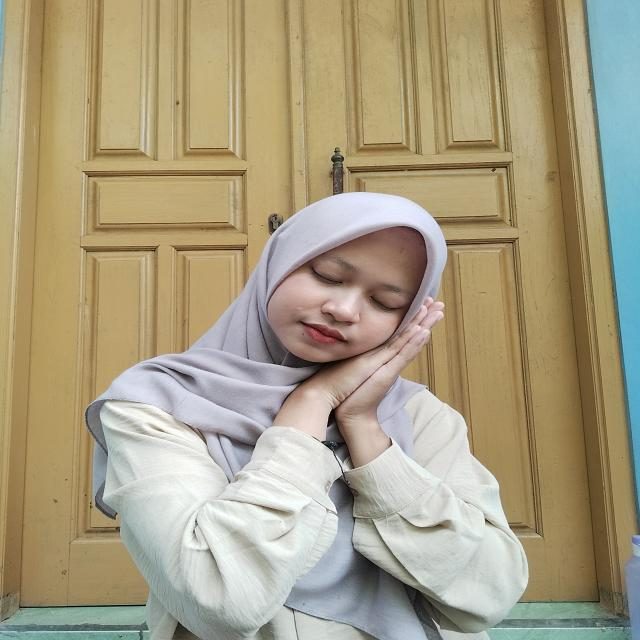tidur: (275, 292, 450, 479)
